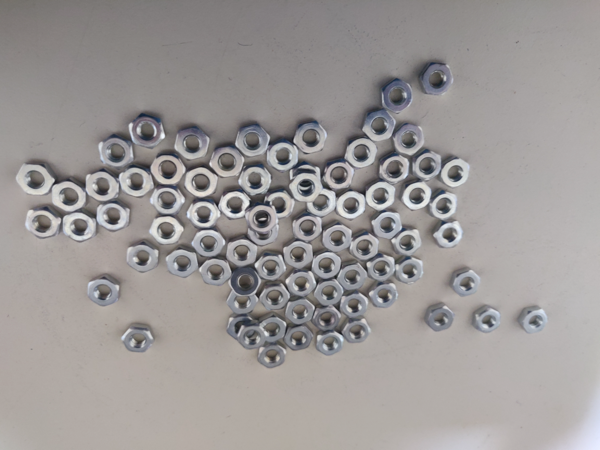nut: (15, 160, 52, 197), (130, 112, 165, 149), (26, 206, 61, 241), (175, 124, 210, 159), (209, 144, 245, 178), (379, 77, 411, 115), (419, 61, 453, 96), (237, 163, 272, 197), (52, 178, 86, 212), (294, 120, 328, 154), (235, 122, 269, 156), (117, 165, 152, 198), (125, 241, 161, 273), (393, 121, 425, 156), (62, 212, 98, 243), (363, 108, 395, 142), (410, 147, 444, 179), (98, 136, 133, 167), (185, 198, 220, 229), (268, 138, 299, 173), (86, 276, 122, 306), (287, 173, 324, 202), (86, 171, 118, 204), (185, 166, 218, 198), (151, 152, 183, 185), (440, 154, 471, 188), (150, 215, 184, 246), (96, 204, 133, 232), (345, 136, 378, 167), (150, 186, 185, 215), (423, 302, 455, 333), (167, 247, 198, 279), (226, 235, 258, 266), (368, 180, 399, 212), (392, 225, 424, 256), (192, 228, 225, 258), (394, 254, 427, 284), (122, 323, 156, 352), (244, 219, 279, 247), (518, 305, 549, 336), (199, 256, 231, 286), (307, 184, 337, 216), (334, 189, 367, 218), (289, 163, 323, 191), (471, 305, 502, 335), (283, 239, 313, 270), (400, 181, 431, 211), (218, 191, 250, 220), (324, 220, 353, 252), (263, 192, 296, 220), (379, 154, 409, 184), (450, 269, 481, 298), (372, 210, 403, 239), (348, 232, 379, 261), (338, 262, 368, 291), (433, 221, 464, 249), (294, 212, 322, 243), (342, 317, 373, 345), (315, 278, 344, 307), (366, 282, 398, 308), (255, 253, 284, 281), (324, 160, 353, 188), (341, 291, 368, 321), (429, 193, 460, 219), (228, 289, 259, 315), (283, 271, 315, 296), (368, 254, 396, 282), (257, 343, 287, 369), (284, 298, 314, 324), (313, 251, 340, 279), (230, 269, 258, 296), (228, 313, 255, 341), (259, 284, 288, 310), (284, 326, 312, 352), (238, 324, 266, 350), (246, 208, 274, 233), (261, 316, 286, 343), (317, 332, 343, 356), (315, 307, 339, 332)
